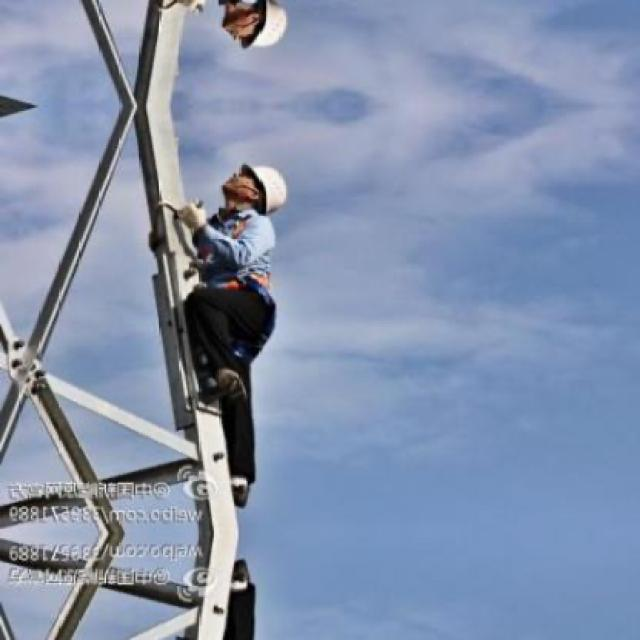helmet: (215, 165, 291, 216), (216, 0, 293, 49)
